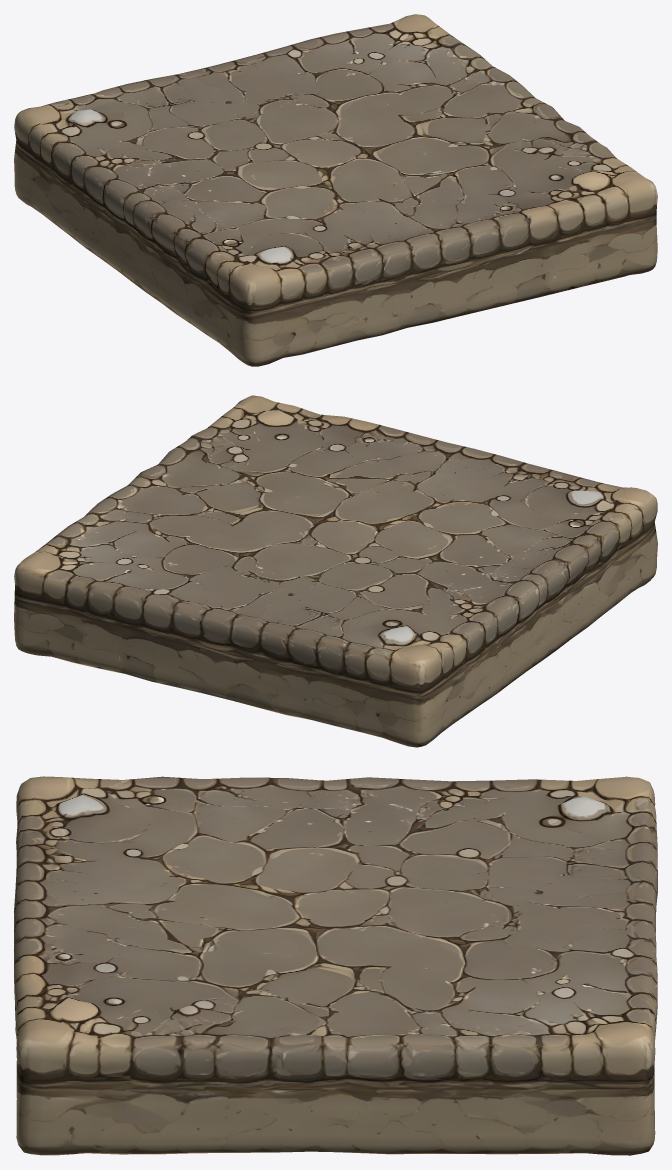
The model's file is baldosa_piedra.fbx.
The picture shows the model from 3 angles, top to bottom: view 1: azimuth 30°, elevation 25°; view 2: azimuth 150°, elevation 25°; view 3: azimuth 270°, elevation 25°; orthographic projection. The views are drawn at different scales.
Parts seen in each view (by area): view 1: tripo_node_ef0b9104; view 2: tripo_node_ef0b9104; view 3: tripo_node_ef0b9104.
Part boxes in pixels (left/top/right/bottom): tripo_node_ef0b9104: left=14, top=14, right=657, bottom=366; tripo_node_ef0b9104: left=14, top=395, right=657, bottom=747; tripo_node_ef0b9104: left=14, top=776, right=657, bottom=1155.
Bounding box in the file's own units: 99.93 × 21.58 × 99.85.
1 material, 1 textured.
